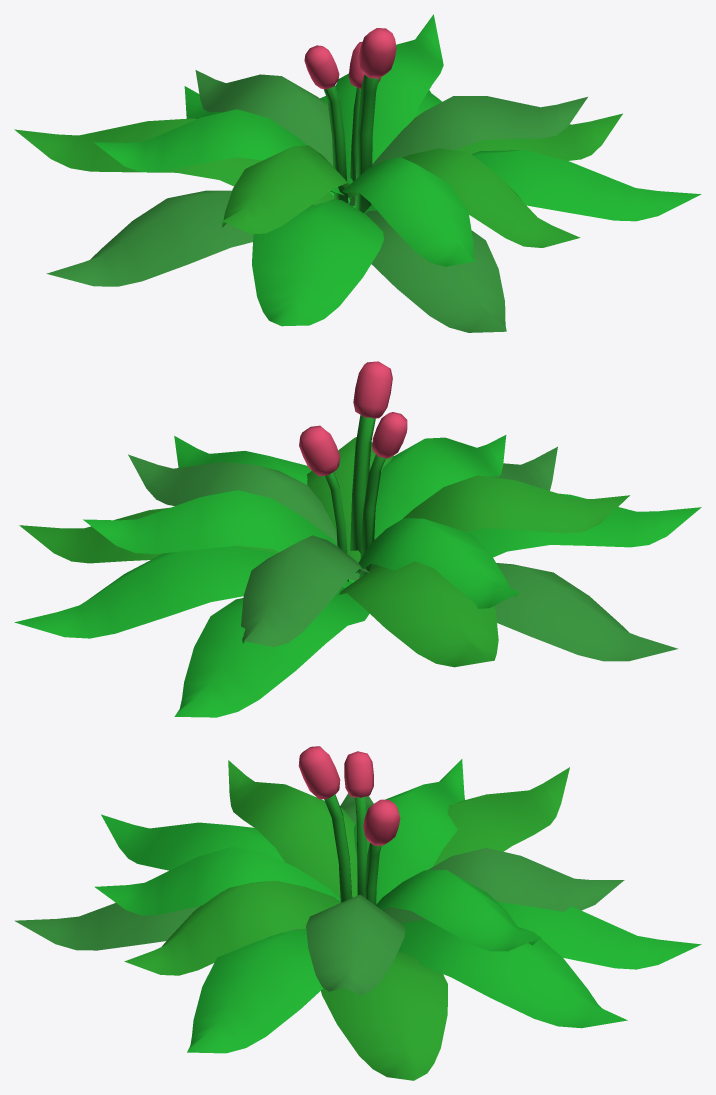
File: Leaf_Plant_Berries_Red.fbx
3 renders of one model, top to bottom at view 1: azimuth 30°, elevation 25°; view 2: azimuth 150°, elevation 25°; view 3: azimuth 270°, elevation 25°, orthographic. The views are drawn at different scales.
Parts seen in each view (by area): view 1: Plane.028, Plane.024, Plane.027, Plane.029, Plane.045, Plane.034, Plane.044, Plane.032, Plane.023, Plane.033, Plane.035, Plane.031 (+7 smaller); view 2: Plane.030, Plane.025, Plane.031, Plane.033, Plane.024, Plane.035, Plane.032, Plane.044, Plane.045, Plane.034, Plane.028, Plane.026 (+9 smaller); view 3: Plane.030, Plane.029, Plane.026, Plane.023, Plane.032, Plane.045, Plane.034, Plane.035, Plane.033, Plane.025, Plane.044, Plane.031 (+8 smaller).
Part boxes in pixels (x1,y1,x2,y2): Plane.028: (252, 199, 384, 326); Plane.024: (46, 190, 313, 286); Plane.027: (365, 210, 506, 332); Plane.029: (364, 150, 701, 221); Plane.045: (342, 157, 475, 266); Plane.034: (349, 96, 587, 206); Plane.044: (94, 109, 350, 197); Plane.032: (222, 145, 358, 233); Plane.023: (355, 148, 580, 247); Plane.033: (328, 14, 443, 183); Plane.035: (195, 70, 351, 197); Plane.031: (14, 118, 334, 205); Plane.030: (14, 546, 352, 638); Plane.025: (174, 587, 369, 717); Plane.031: (339, 561, 498, 667); Plane.033: (83, 490, 358, 573); Plane.024: (494, 563, 678, 661); Plane.035: (241, 535, 369, 646); Plane.032: (359, 475, 629, 573); Plane.044: (356, 518, 519, 608); Plane.045: (360, 435, 506, 555); Plane.034: (128, 454, 359, 580); Plane.028: (466, 493, 701, 557); Plane.026: (19, 507, 279, 563); Plane.030: (398, 920, 627, 1028); Plane.029: (187, 928, 323, 1053); Plane.026: (321, 951, 447, 1080); Plane.023: (124, 881, 340, 975); Plane.032: (228, 760, 356, 898); Plane.045: (95, 846, 340, 915); Plane.034: (306, 894, 405, 995); Plane.035: (383, 848, 624, 923); Plane.033: (376, 870, 541, 951); Plane.025: (425, 901, 701, 969); Plane.044: (354, 759, 464, 904); Plane.031: (433, 767, 569, 866).
Size of the model in its own units: 239 by 79.47 by 236.
